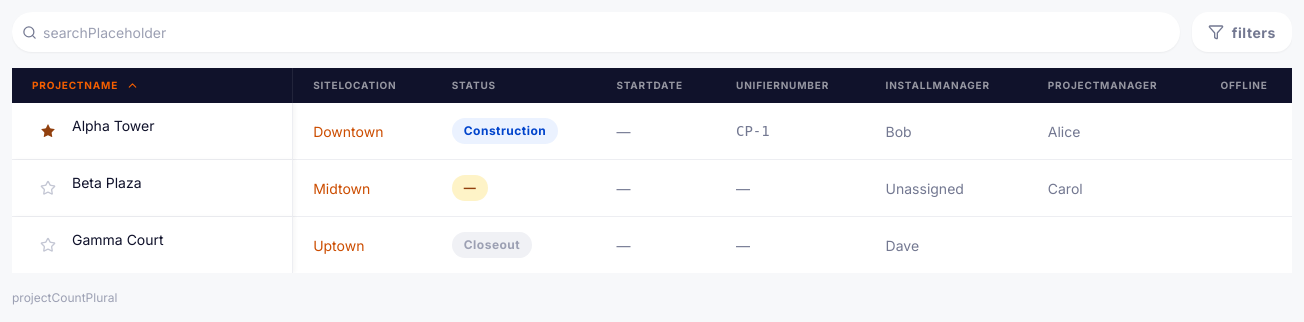
Scenario: ProjectsTable › filters by search query
This screenshot has width=1304, height=322.
In the search field with placeholder "searchPlaceholder": [605, 32] box [43,22,1168,42], type "Alpha"
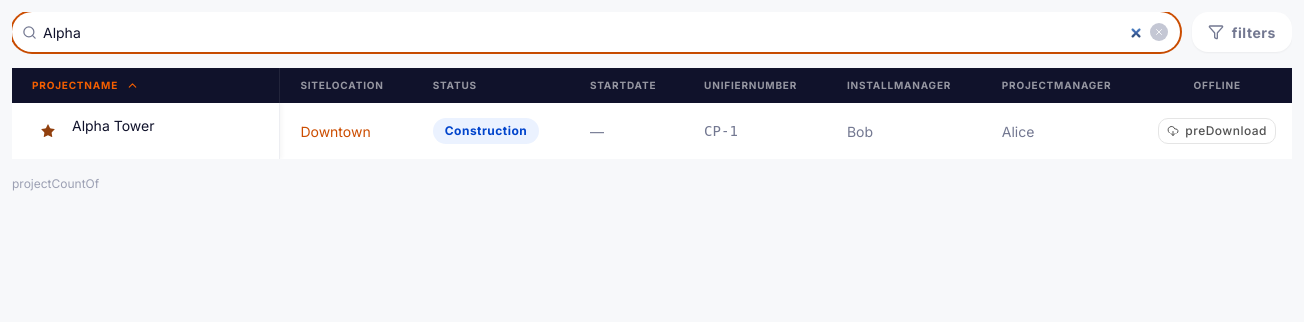
Check: the link "Beta Plaza" is gone
